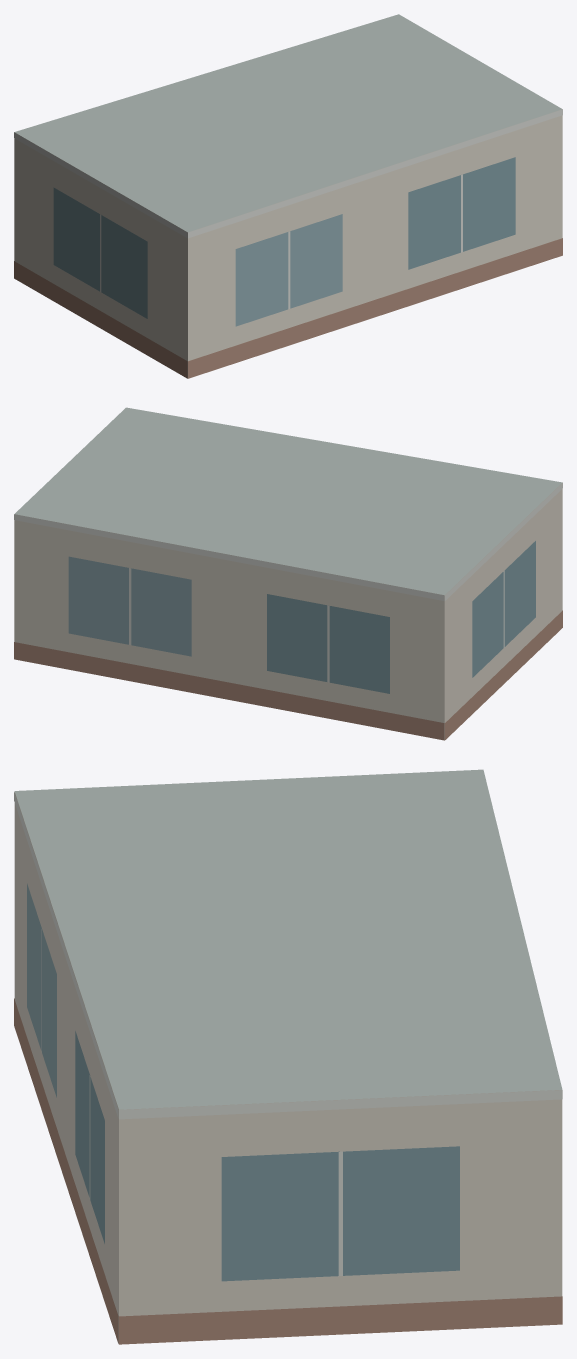
The model's file is survey-upis-32638331.glb.
3 renders of one model, top to bottom at view 1: azimuth 30°, elevation 25°; view 2: azimuth 150°, elevation 25°; view 3: azimuth 270°, elevation 25°, orthographic. The views are drawn at different scales.
Visible parts, largest first — view 1: survey-upis-32638331.tmp; view 2: survey-upis-32638331.tmp; view 3: survey-upis-32638331.tmp.
Boxes of the visible parts, x1=… form: survey-upis-32638331.tmp: x1=14, y1=14, x2=562, y2=378; survey-upis-32638331.tmp: x1=14, y1=407, x2=562, y2=740; survey-upis-32638331.tmp: x1=14, y1=769, x2=562, y2=1344.
Size of the model in its own units: 9.5 by 3.05 by 6.47.
